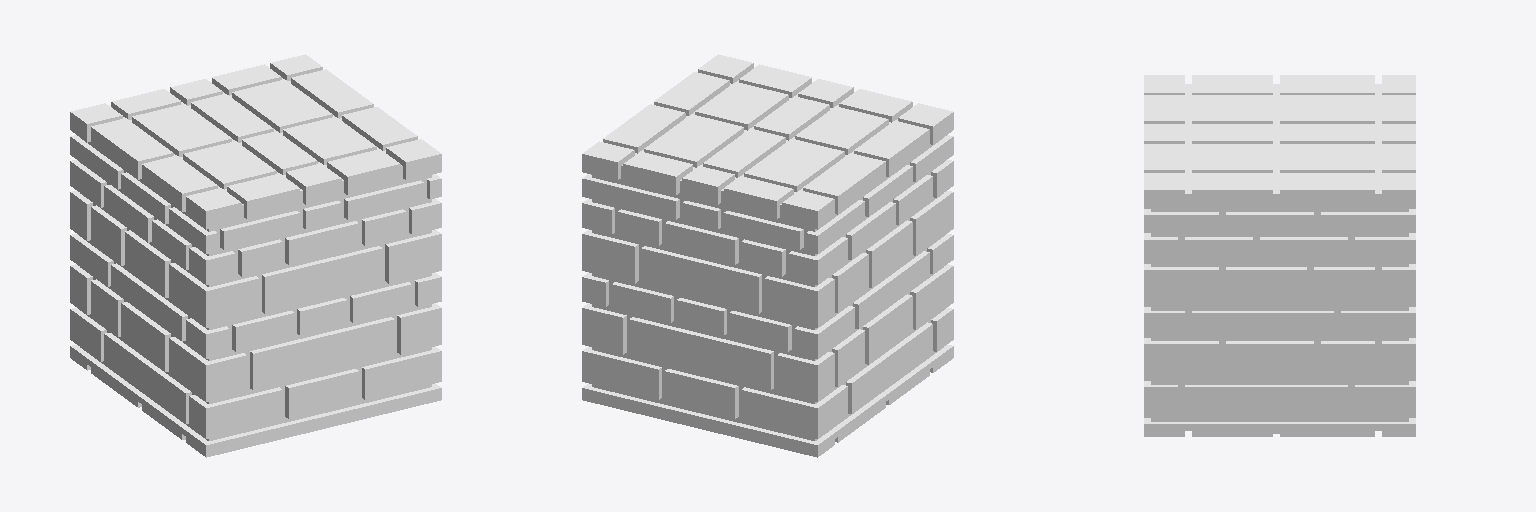
File: стена2.obj
3 renders of one model, left to right at view 1: azimuth 30°, elevation 25°; view 2: azimuth 150°, elevation 25°; view 3: azimuth 270°, elevation 25°, orthographic.
Visible parts, largest first — view 1: object 1; view 2: object 1; view 3: object 1.
Part boxes in pixels (left/top/right/bottom): object 1: left=70, top=54, right=441, bottom=457; object 1: left=582, top=54, right=953, bottom=457; object 1: left=1144, top=75, right=1415, bottom=436.
Bounding box in the file's own units: 4 × 4 × 4.